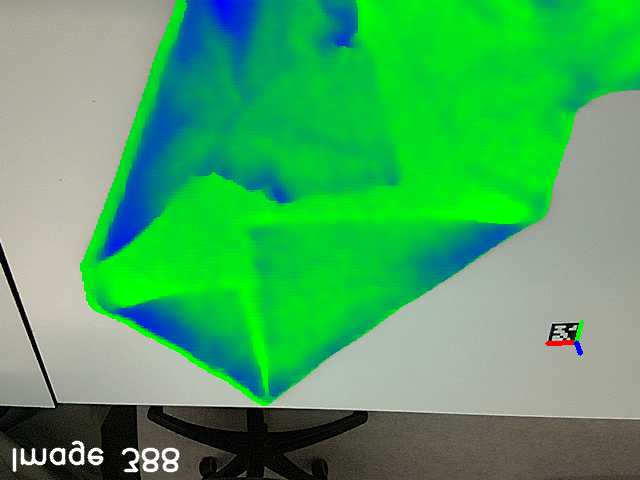V: (365, 147, 411, 195), (203, 276, 250, 313), (241, 218, 281, 259)
